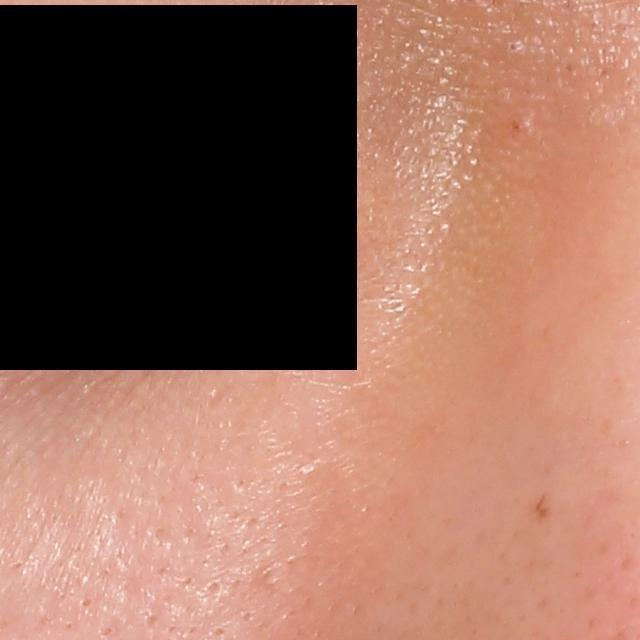comedo: (503, 39, 520, 57)
nevus: (535, 493, 548, 521)
